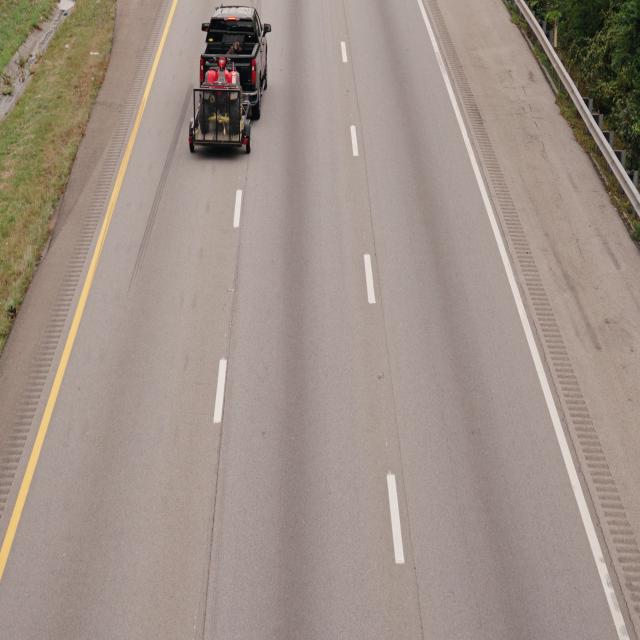Car: (187, 5, 274, 157)
